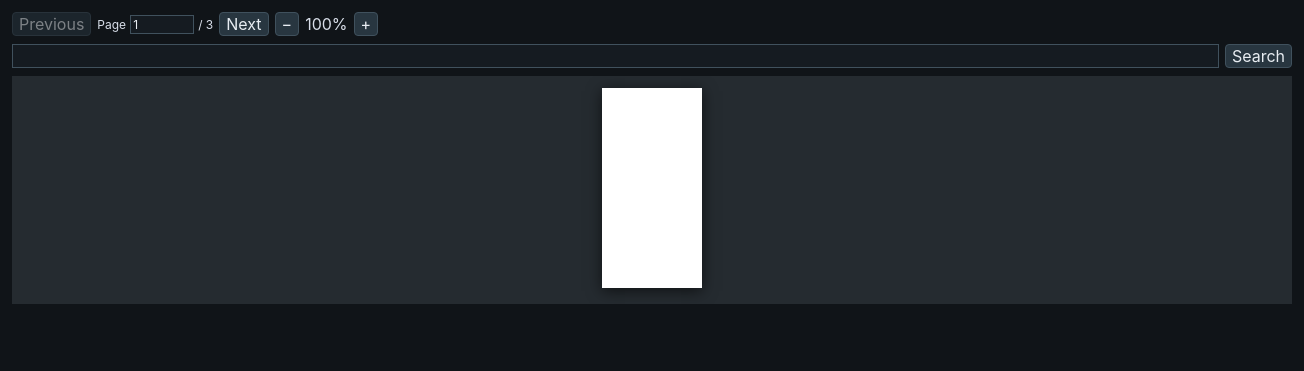
Scenario: PdfViewer › renders pages, navigates, zooms, searches, and persists project view state
Click the button with aria-label "Next PDF page" at (244, 24), box [219,12,269,36]
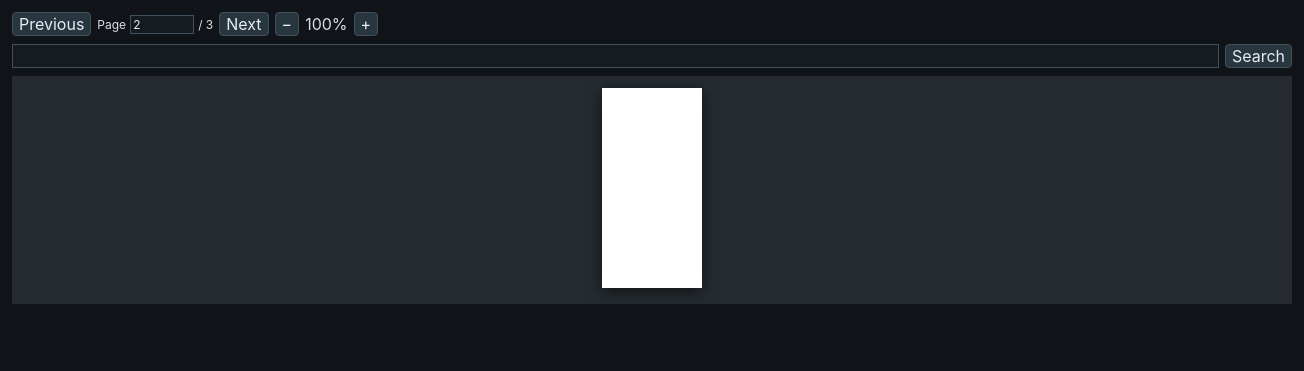
Expected: the number field named "PDF page" holds "2", [130,14,194,34]
Click the button named "Zoom in PDF" at (366, 24), box [354,12,378,36]
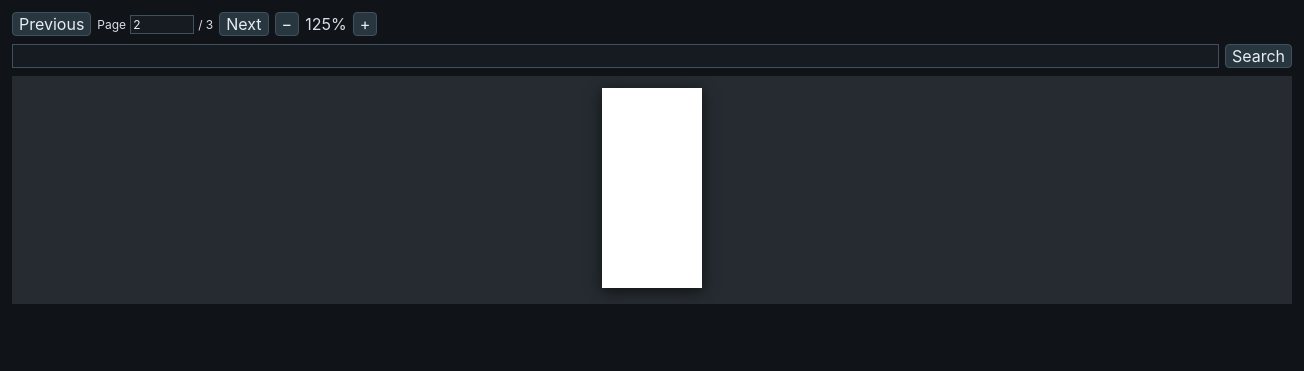
Expected: the text named "PDF zoom" reads "125%", [305,14,347,34]
Type "needle" into the search field named "Search PDF" at (615, 56), box [12,44,1219,68]
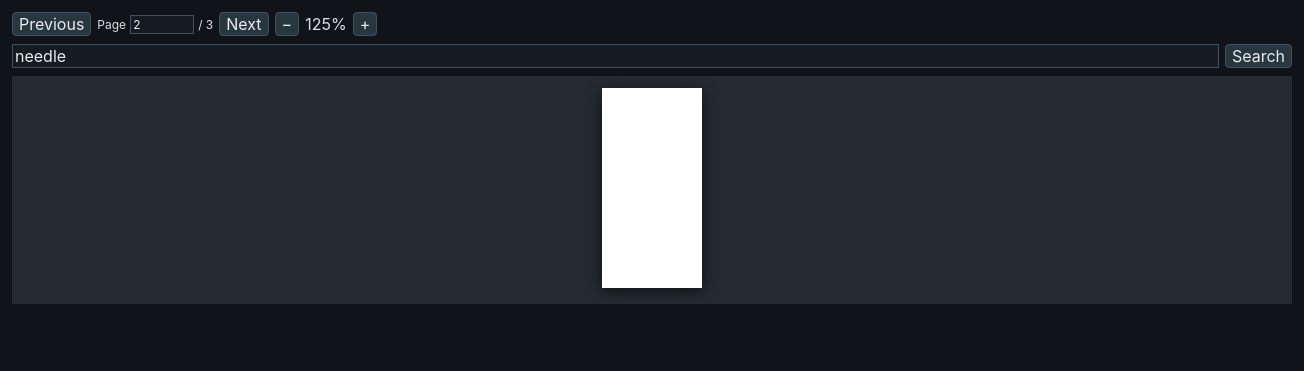
Click the button "Search" at (1258, 56), box [1225,44,1292,68]
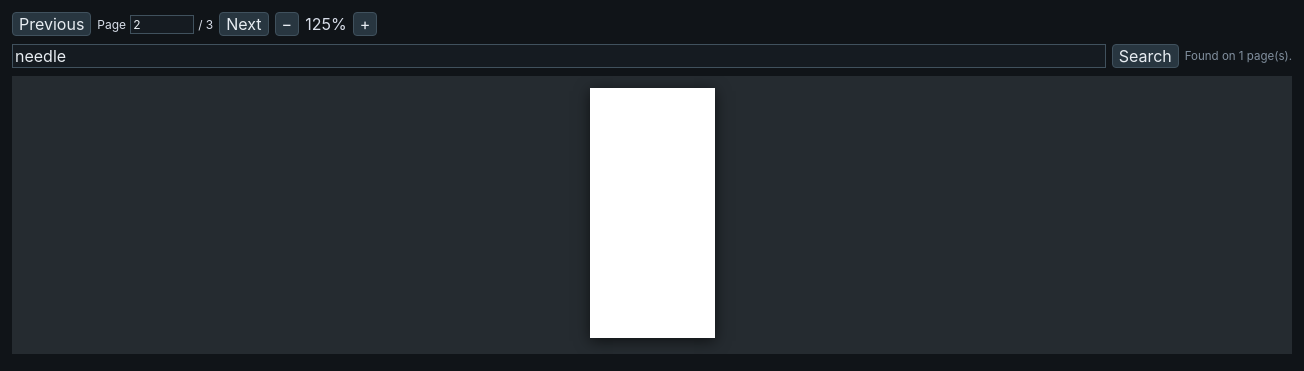
Expected: the number field named "PDF page" holds "2", [130,14,194,34]
Expected: the text "Found on 1 page(s)." is shown, [1185,49,1292,63]
